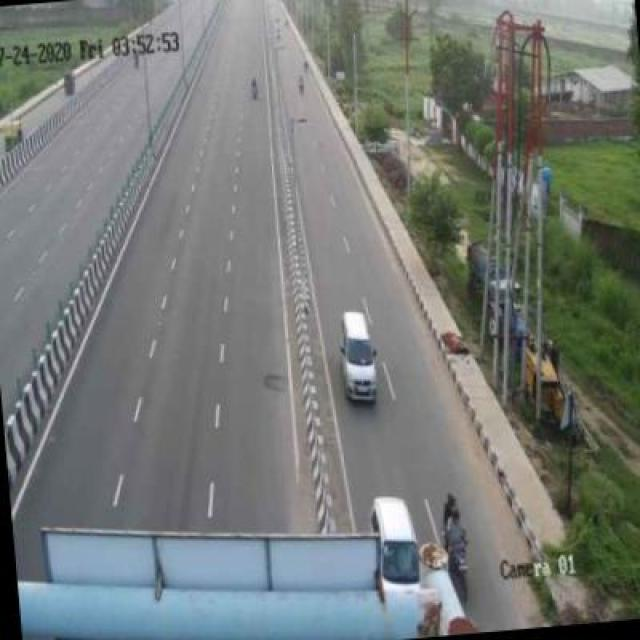car: (363, 488, 432, 602), (333, 302, 397, 413)
